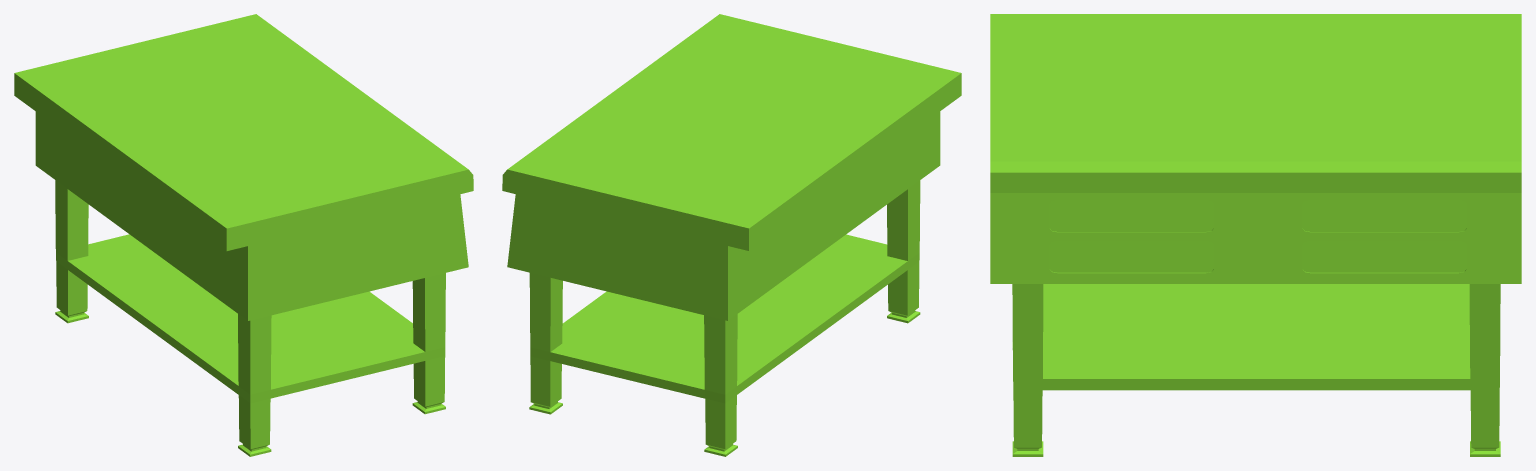
Rendered from kitchen_hob_v1_main_low.fbx.
The picture shows the model from 3 angles, left to right: view 1: azimuth 30°, elevation 25°; view 2: azimuth 150°, elevation 25°; view 3: azimuth 270°, elevation 25°; orthographic projection. The views are drawn at different scales.
Visible parts, largest first — view 1: kitchen_hob_v1_main_low; view 2: kitchen_hob_v1_main_low; view 3: kitchen_hob_v1_main_low.
Boxes of the visible parts, <box> form: kitchen_hob_v1_main_low: <box>14,14,473,456</box>; kitchen_hob_v1_main_low: <box>502,14,961,456</box>; kitchen_hob_v1_main_low: <box>990,14,1521,456</box>.
Bounding box in the file's own units: 116 × 109 × 172.
